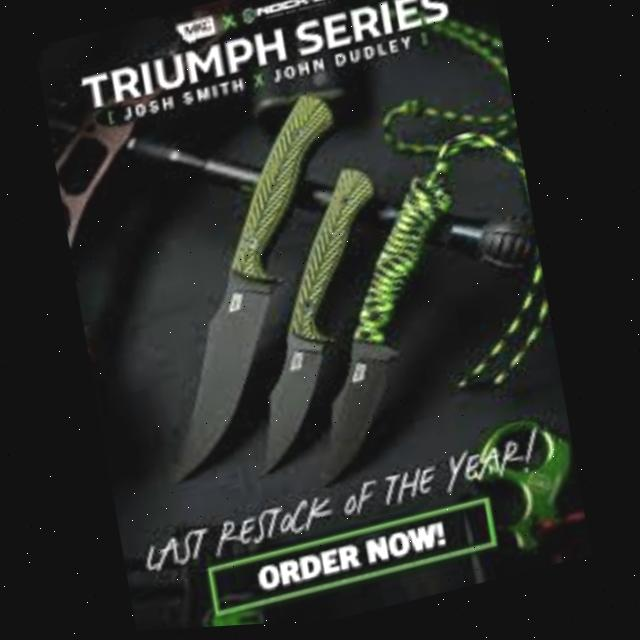knife: (106, 86, 397, 489), (263, 143, 509, 491), (203, 160, 425, 483)
